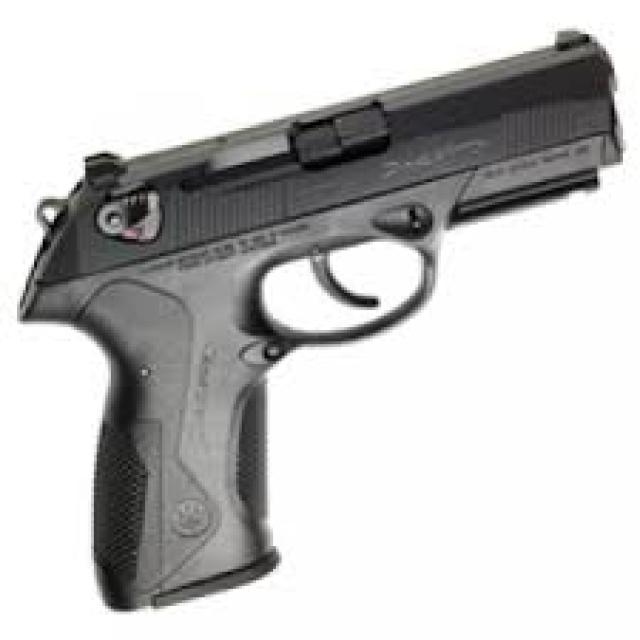pistol: (16, 18, 635, 625)
